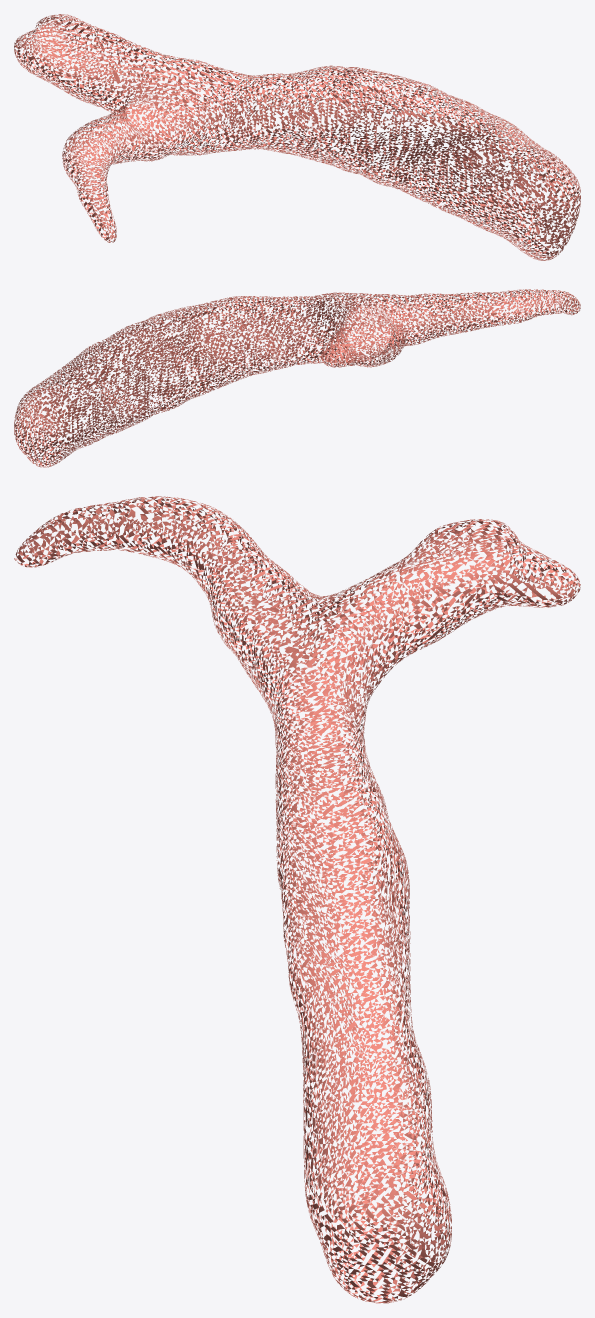
Rendered from diseased.glb.
3 views of the same model, one above another, from view 1: azimuth 30°, elevation 25°; view 2: azimuth 150°, elevation 25°; view 3: azimuth 270°, elevation 25° (orthographic). The views are drawn at different scales.
Size of the model in its own units: 136 by 68.39 by 77.98.
